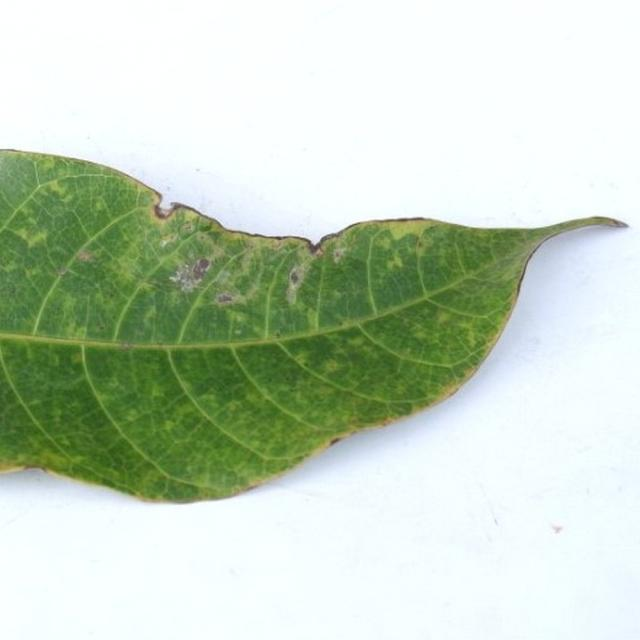Mango: (0, 150, 624, 502)
Powdery_Mildew: (164, 201, 226, 228), (169, 255, 214, 292), (14, 222, 50, 249), (285, 263, 304, 303), (315, 231, 344, 253), (372, 412, 409, 428), (152, 201, 177, 220), (47, 180, 68, 197), (380, 216, 429, 223), (25, 265, 45, 282), (388, 254, 405, 270), (76, 250, 94, 262), (309, 242, 324, 256), (160, 235, 176, 248), (333, 247, 346, 262), (163, 419, 177, 432), (180, 222, 194, 234), (168, 272, 182, 284), (71, 353, 85, 364), (25, 465, 44, 473), (290, 270, 299, 284), (329, 437, 343, 446), (118, 342, 132, 350), (58, 267, 67, 276), (416, 240, 424, 249), (98, 323, 105, 330), (274, 330, 281, 337), (234, 329, 242, 335)
